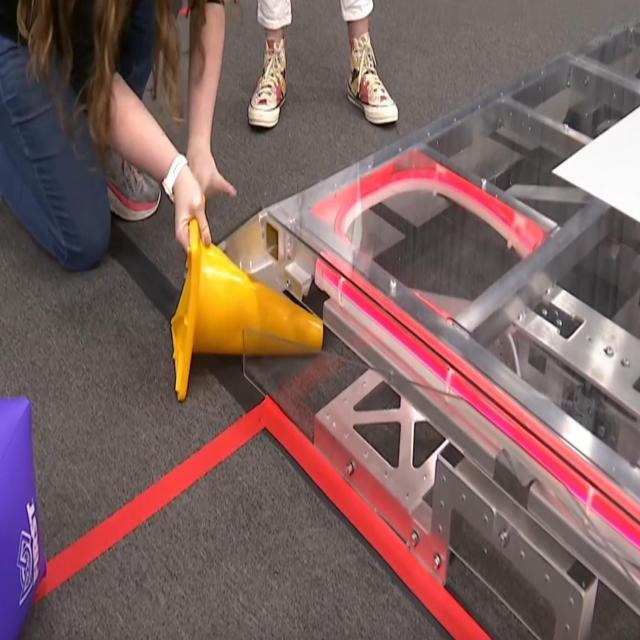frc_cone: (169, 208, 324, 412)
frc_cube: (0, 394, 46, 640)
